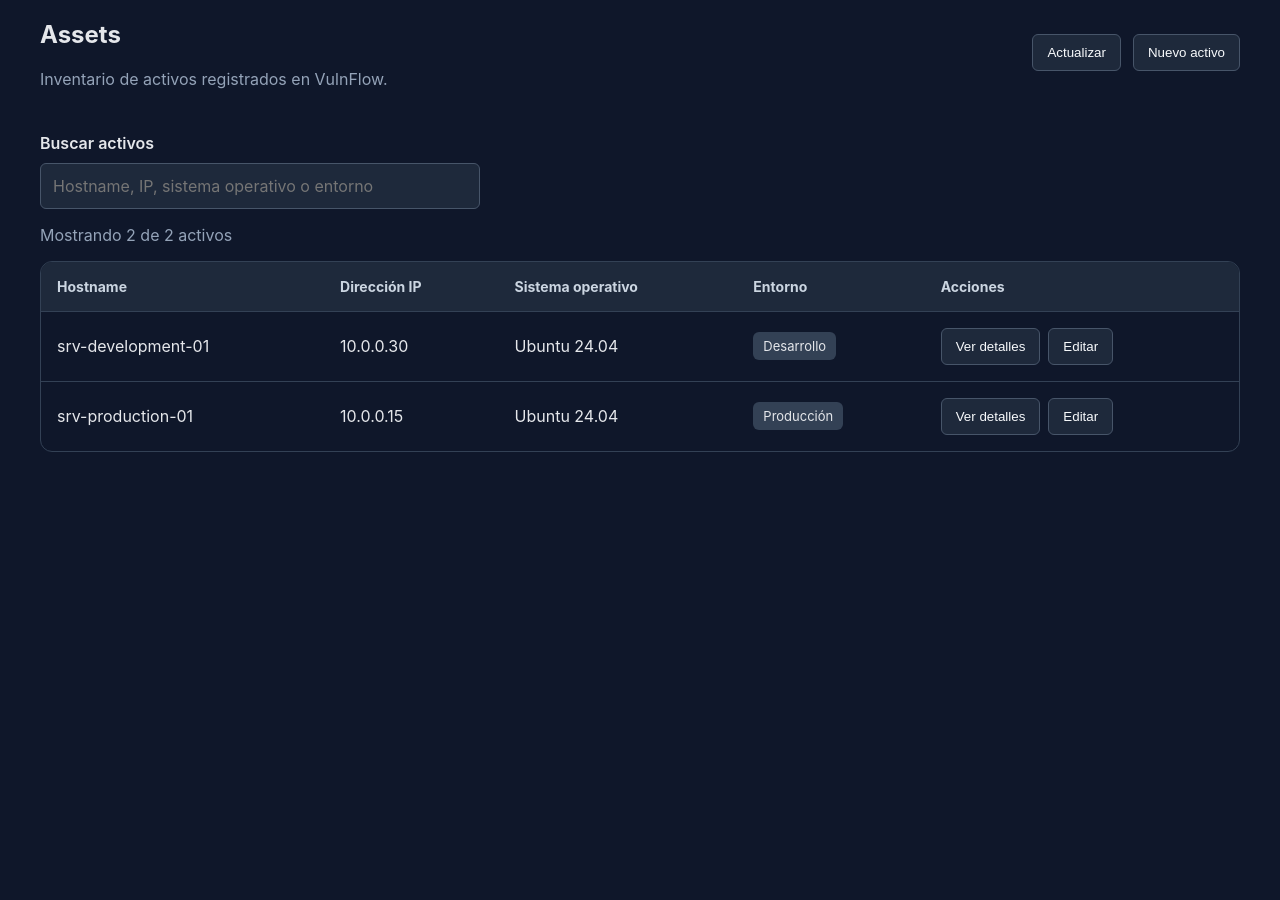
Scenario: AssetsPage permissions and forms › permite crear activos al rol admin
Check: the text "srv-development-01" is shown, box [41,311,324,381]
Step 1. Click the button "Nuevo activo" → (1186,52), box [1133,34,1240,71]
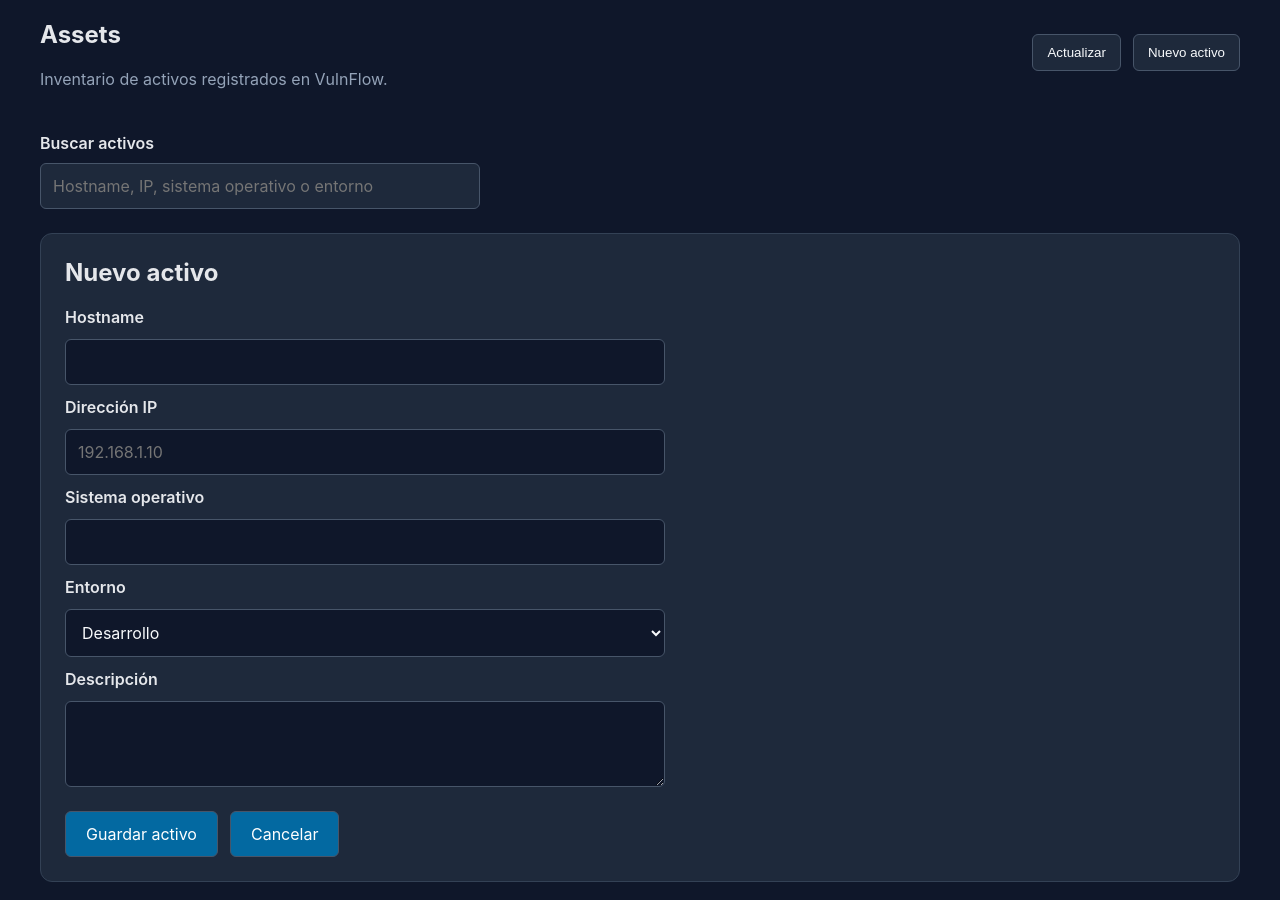
Step 2. Type "srv-new-01" into the field labelled "Hostname" → (365,362), box [65,339,665,385]
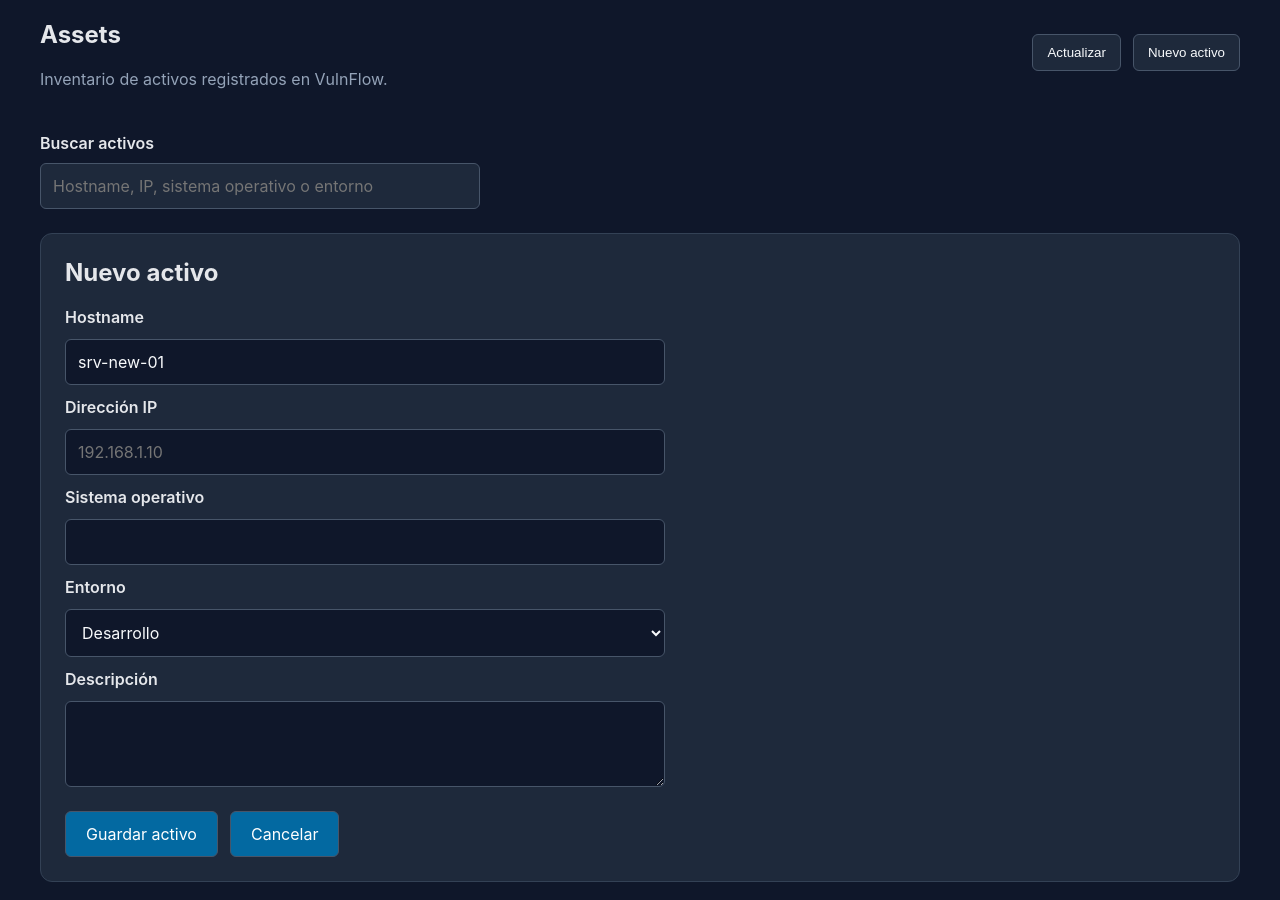
Step 3. Type "10.0.0.50" into the field labelled "Dirección IP" → (365,452), box [65,429,665,475]
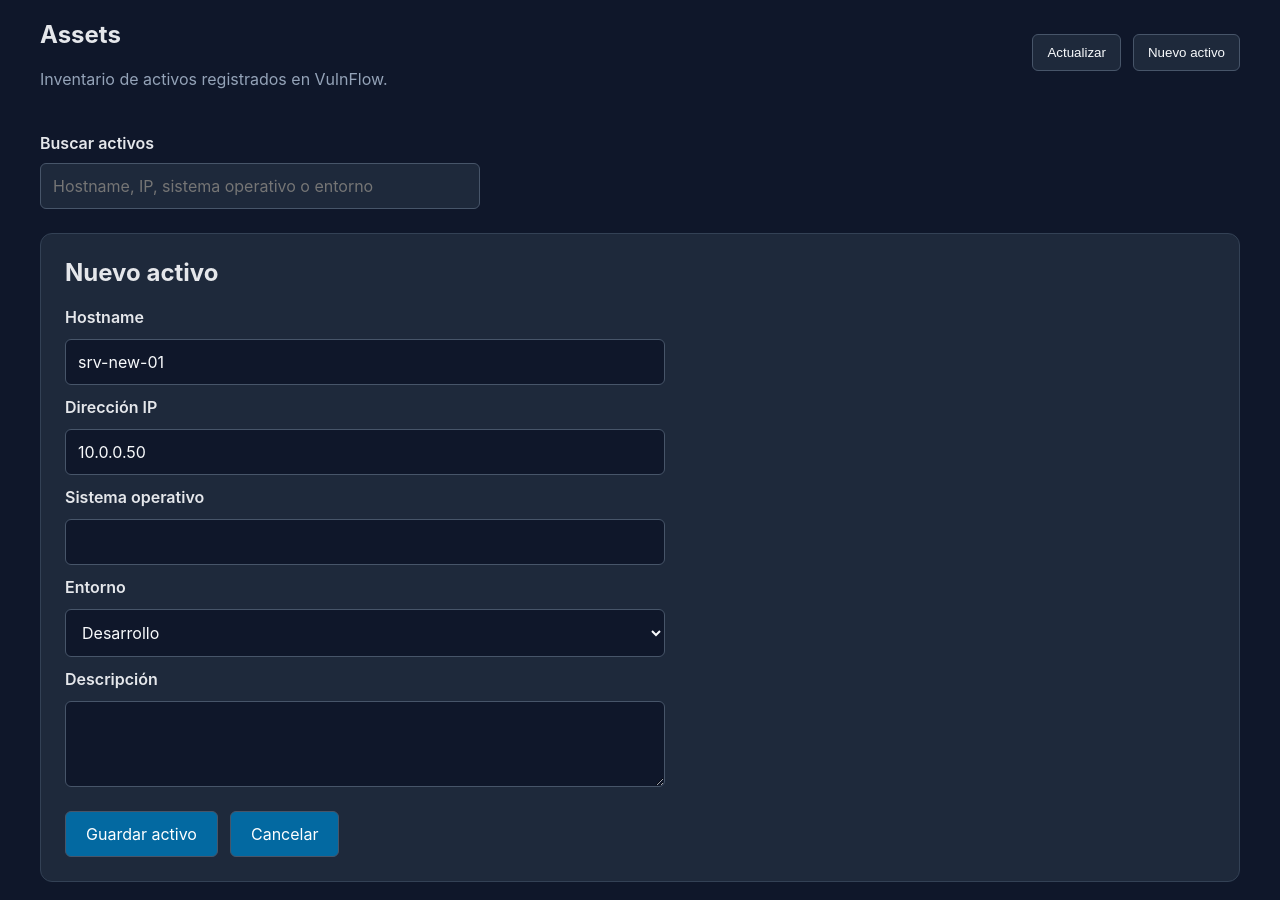
Step 4. Click the button "Guardar activo" → (142,834), box [65,811,218,857]
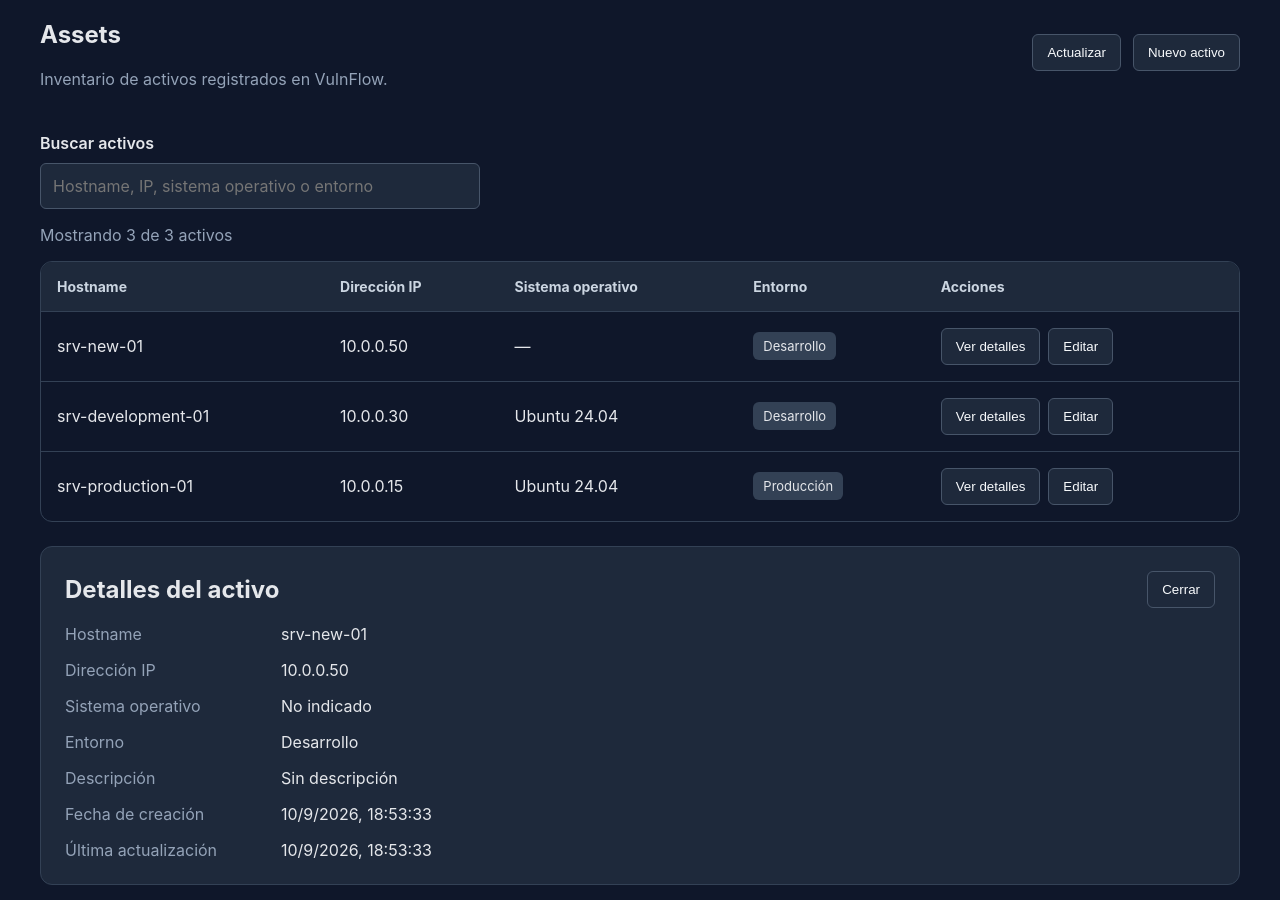
Check: the text "srv-new-01" is shown, box [41,311,324,381]
